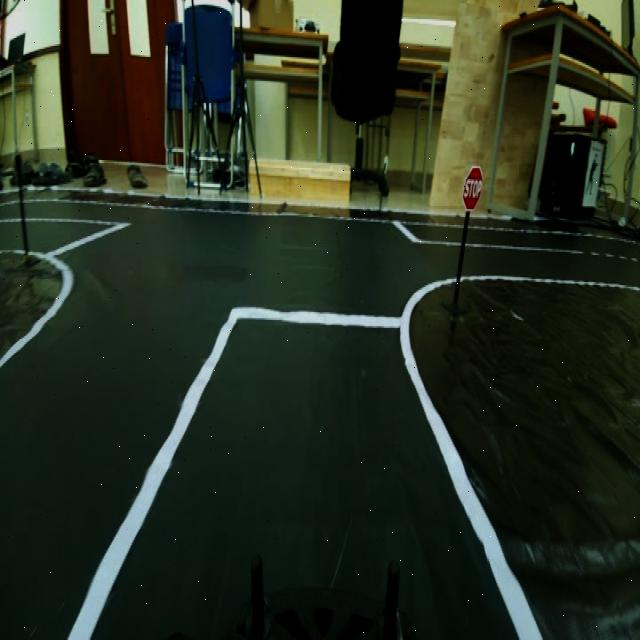stop: (460, 159, 488, 218)
